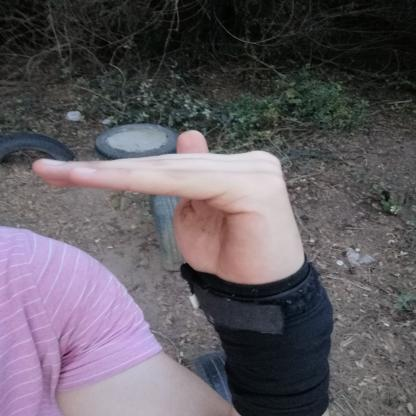KHAA: (18, 118, 315, 295)
